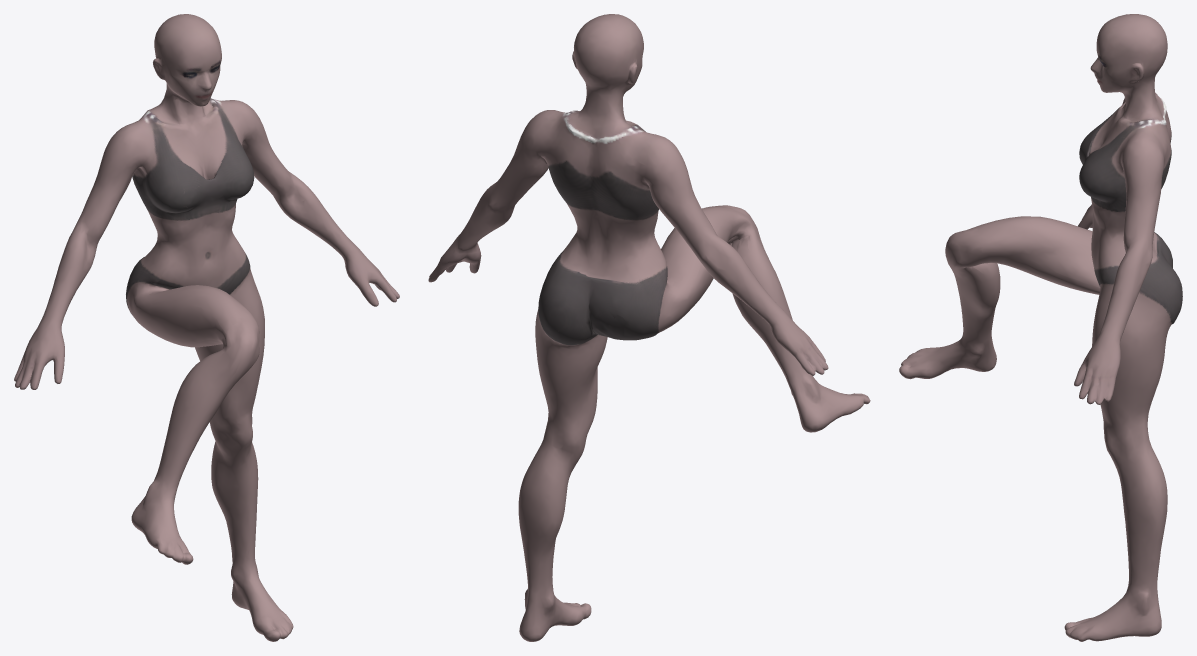
File: 08-ThighL-90-child90-twist-20-baseline.glb
3 renders of one model, left to right at view 1: azimuth 30°, elevation 25°; view 2: azimuth 150°, elevation 25°; view 3: azimuth 270°, elevation 25°, orthographic. The views are drawn at different scales.
Visible parts, largest first — view 1: baseline; view 2: baseline; view 3: baseline.
Boxes of the visible parts, x1=… form: baseline: x1=14, y1=14, x2=399, y2=641; baseline: x1=428, y1=14, x2=870, y2=641; baseline: x1=899, y1=14, x2=1182, y2=641.
Size of the model in its own units: 0.6508 by 1 by 0.436.
Materials: 1 (1 with a texture image).
